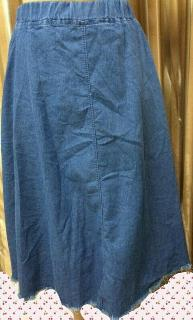skirt: (0, 0, 191, 320)
